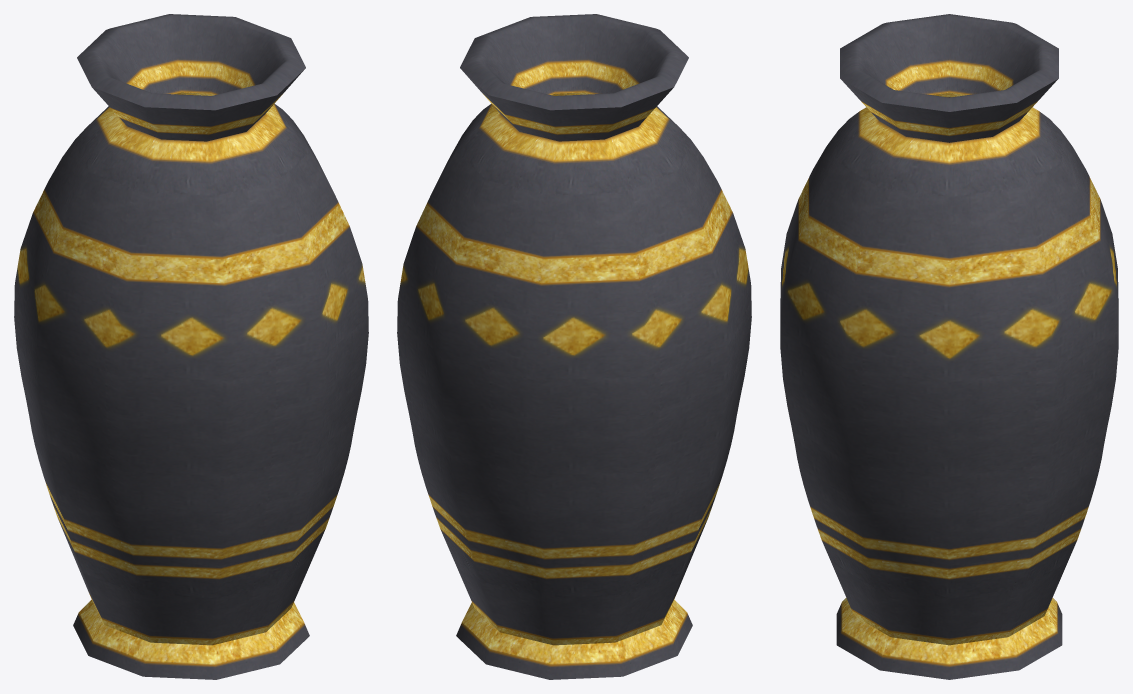
Rendered from urn_blue.FBX.
3 views of the same model, side by side, from view 1: azimuth 30°, elevation 25°; view 2: azimuth 150°, elevation 25°; view 3: azimuth 270°, elevation 25° (orthographic).
Parts seen in each view (by area): view 1: Line01; view 2: Line01; view 3: Line01.
Part boxes in pixels (left/top/right/bottom): Line01: left=14, top=14, right=368, bottom=679; Line01: left=397, top=14, right=751, bottom=679; Line01: left=780, top=14, right=1118, bottom=679.
Bounding box in the file's own units: 39.88 × 70.93 × 37.93.
